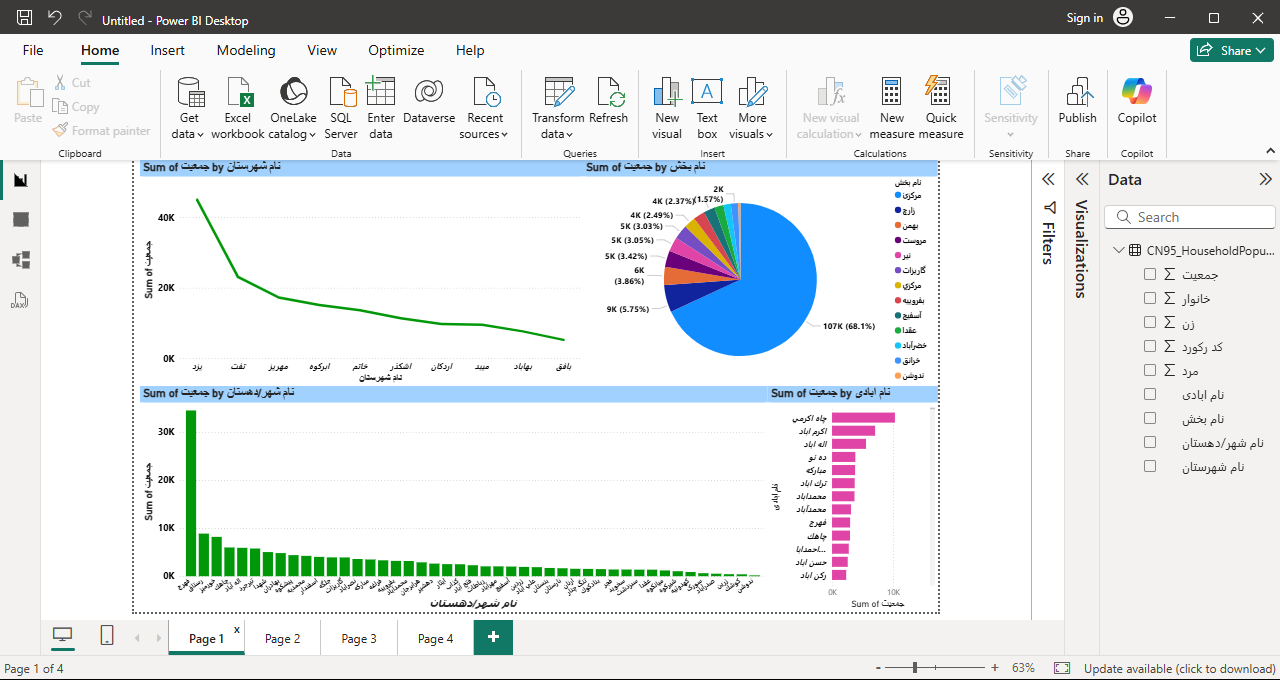

Layout of this report page (visuals, bound fields, positions):
{"tool":"powerbi","page":{"name":"Page 1","canvas":[1280,720],"ordinal":0},"visuals":[{"type":"lineChart","title":"جمعیت  بر اساس شهرستان","fields":{"Y":["Sum(CN95_HouseholdPopulationVillage1.جمعيت)"],"Category":["CN95_HouseholdPopulationVillage1.نام شهرستان"]},"box":[9.6,0,705.7,360],"z":0},{"type":"clusteredColumnChart","title":"جمعیت بر اساس شهر/دهستان","fields":{"Y":["Sum(CN95_HouseholdPopulationVillage1.جمعيت)"],"Category":["CN95_HouseholdPopulationVillage1.نام شهر/دهستان"]},"box":[9.6,360,1000.4,360],"z":1},{"type":"pieChart","title":"جمعیت بر اساس شهرستان","fields":{"Y":["Sum(CN95_HouseholdPopulationVillage1.جمعيت)"],"Category":["CN95_HouseholdPopulationVillage1.نام بخش"]},"box":[715.2,0,565.5,360],"z":2},{"type":"clusteredBarChart","title":"جمعیت بر اساس ابادی","fields":{"Y":["Sum(CN95_HouseholdPopulationVillage1.جمعيت)"],"Category":["CN95_HouseholdPopulationVillage1.نام ابادی"]},"box":[1009.9,360,270.8,360],"z":3}]}

Visuals, with their boxes on the page's 1280x720 design canvas (x1, y1, x2, y2). These are canvas units, not pixel positions in the 1280x680 screenshot, which may show the page scaled, cropped or inside an application window:
"جمعیت  بر اساس شهرستان" lineChart: (10, 0, 715, 360)
"جمعیت بر اساس شهر/دهستان" clusteredColumnChart: (10, 360, 1010, 720)
"جمعیت بر اساس شهرستان" pieChart: (715, 0, 1281, 360)
"جمعیت بر اساس ابادی" clusteredBarChart: (1010, 360, 1281, 720)
